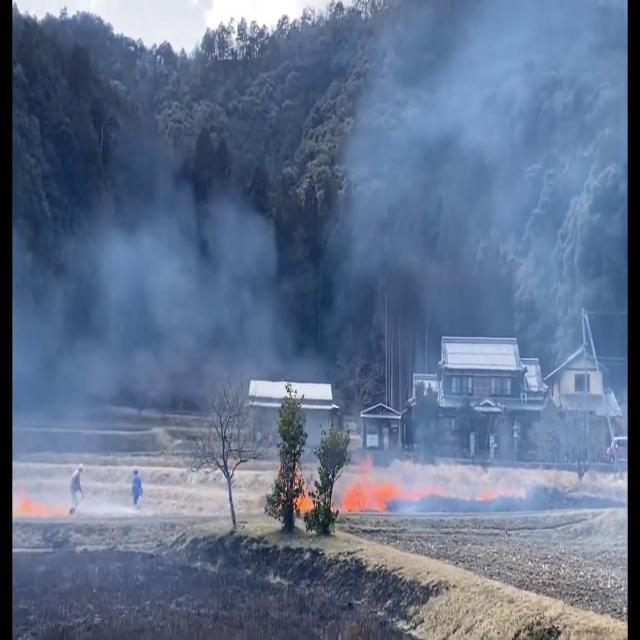Fire: (340, 463, 406, 514)
Smoke: (308, 2, 640, 496), (19, 130, 308, 436)
